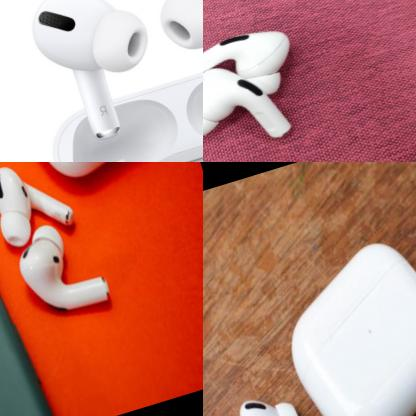Airpods: (23, 0, 168, 151), (0, 222, 115, 332), (203, 43, 301, 162), (203, 8, 304, 111), (0, 162, 84, 251), (146, 0, 203, 113), (232, 388, 326, 416)
